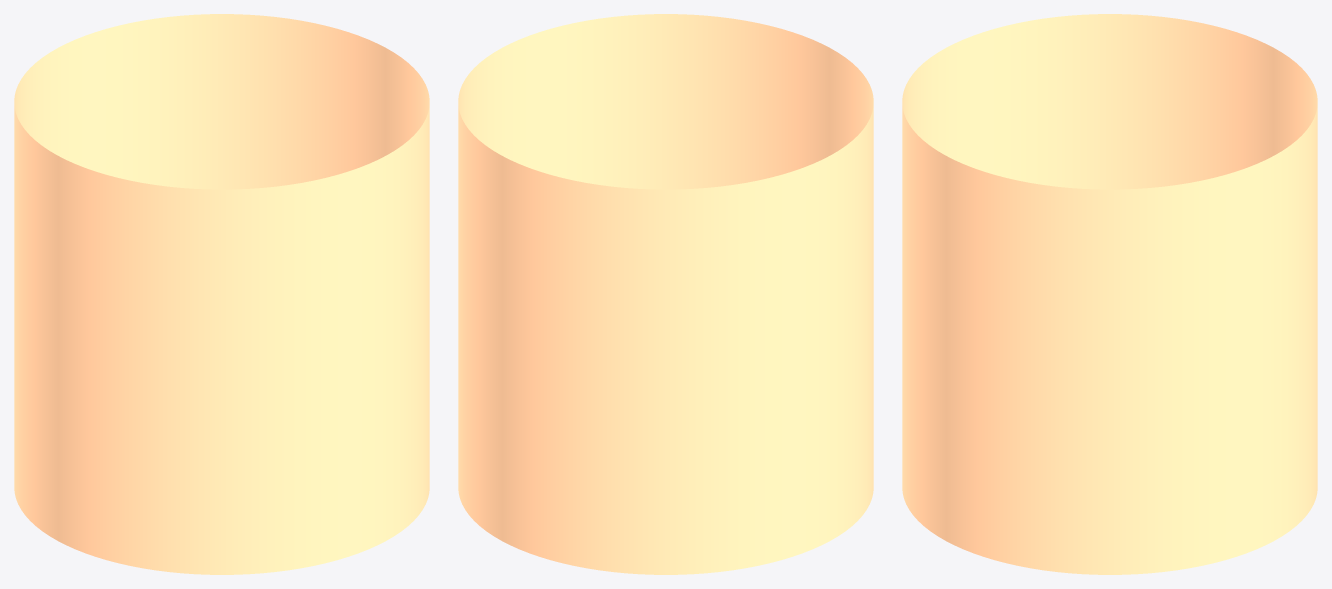
The model's file is efesafe.glb.
3 views of the same model, side by side, from view 1: azimuth 30°, elevation 25°; view 2: azimuth 150°, elevation 25°; view 3: azimuth 270°, elevation 25° (orthographic).
Visible parts, largest first — view 1: EXT_SkyBackdrop; view 2: EXT_SkyBackdrop; view 3: EXT_SkyBackdrop.
Boxes of the visible parts, x1,y1,x2,y2 form: EXT_SkyBackdrop: [14, 14, 429, 574]; EXT_SkyBackdrop: [458, 14, 873, 574]; EXT_SkyBackdrop: [902, 14, 1317, 574].
Bounding box in the file's own units: 52 × 53.2 × 52.
